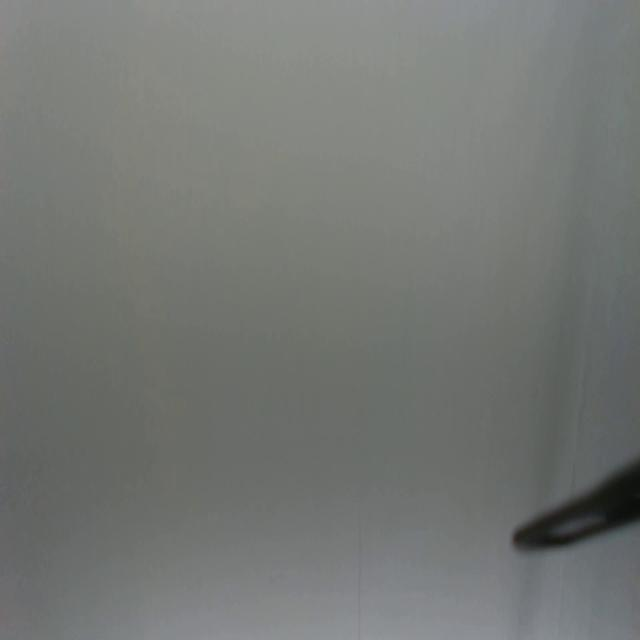crease: (355, 503, 365, 640)
